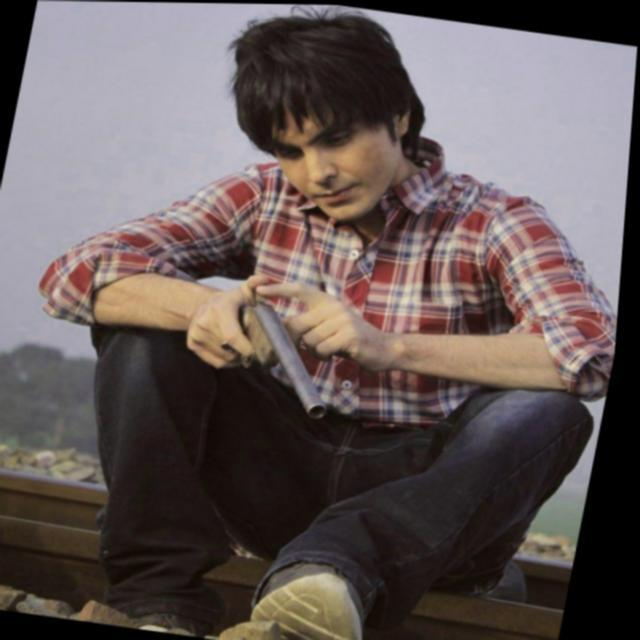weapon: (189, 274, 366, 422)
